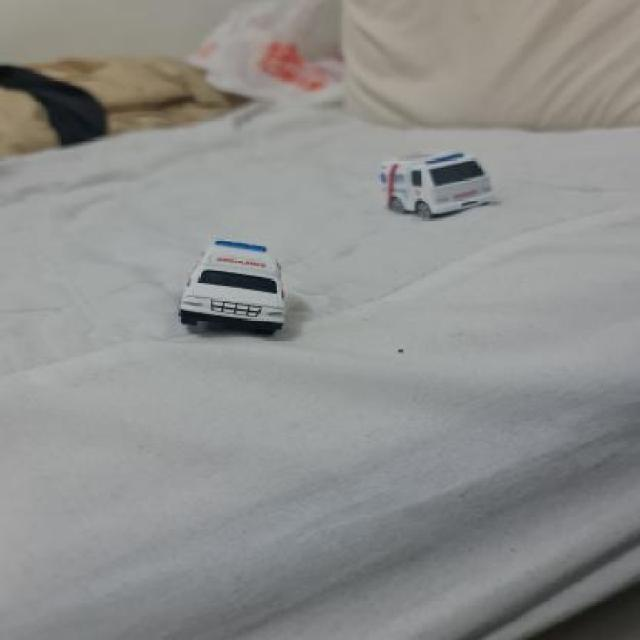car: (175, 230, 292, 341), (372, 146, 501, 220)
